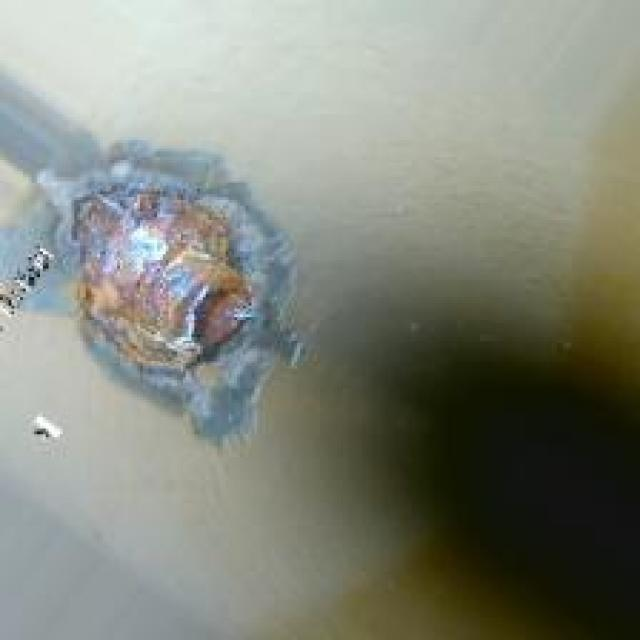ferrule: (86, 188, 280, 383)
